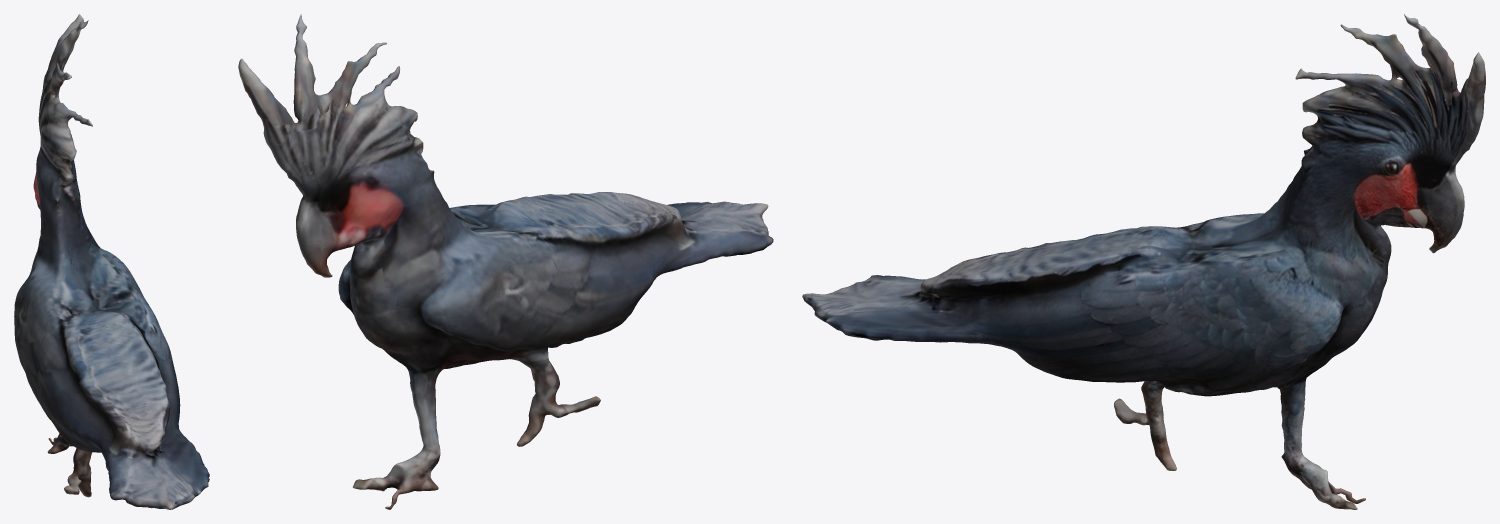
The model's file is Kakaktua raja.fbx.
The picture shows the model from 3 angles, left to right: view 1: azimuth 30°, elevation 25°; view 2: azimuth 150°, elevation 25°; view 3: azimuth 270°, elevation 25°; orthographic projection. The views are drawn at different scales.
Parts seen in each view (by area): view 1: geometry_0; view 2: geometry_0; view 3: geometry_0.
Boxes of the visible parts, x1=… form: geometry_0: x1=14, y1=14, x2=209, y2=509; geometry_0: x1=238, y1=14, x2=773, y2=509; geometry_0: x1=802, y1=14, x2=1485, y2=509.
Size of the model in its own units: 38.62 by 73.32 by 86.61.
1 material, 1 textured.
